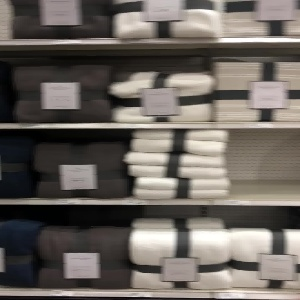void: (228, 129, 300, 198)
